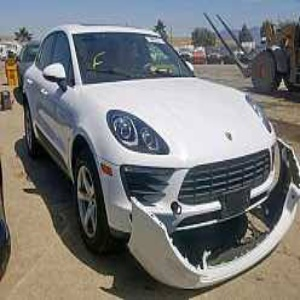bumper: (104, 189, 300, 287)
